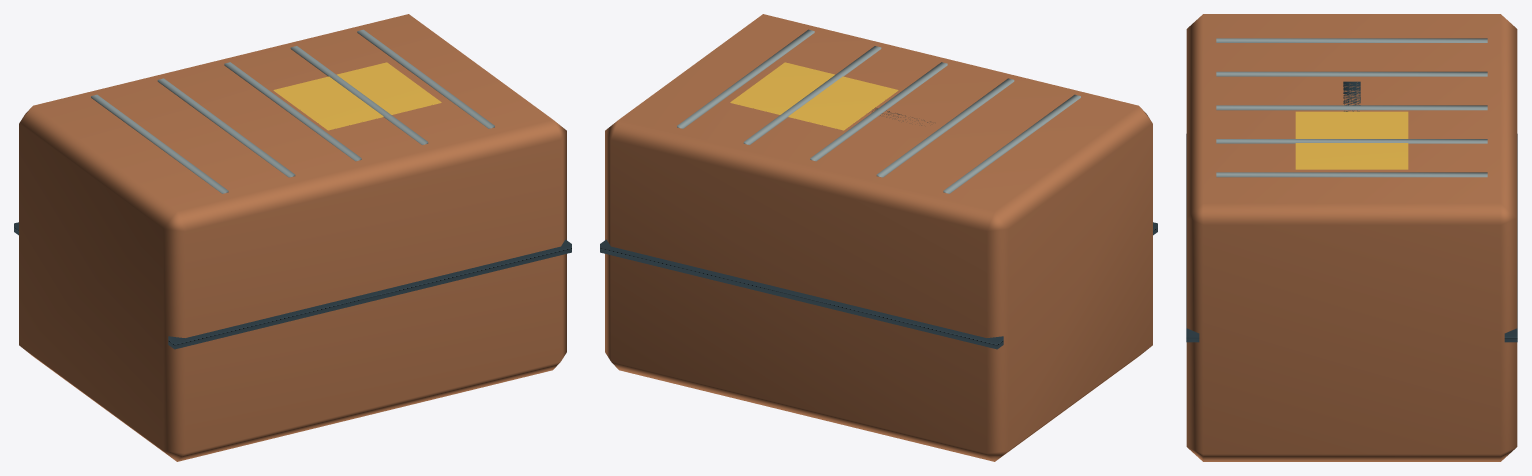
3 renders of one model, left to right at view 1: azimuth 30°, elevation 25°; view 2: azimuth 150°, elevation 25°; view 3: azimuth 270°, elevation 25°, orthographic. The views are drawn at different scales.
Visible parts, largest first — view 1: case, fragile_label, zipper_band, rib_-0.10560000000000001, rib_-0.21120000000000003, rib_0.0, rib_0.21120000000000003, rib_0.1056; view 2: case, fragile_label, zipper_band, rib_-0.10560000000000001, rib_-0.21120000000000003, rib_0.0, rib_0.21120000000000003, rib_0.1056; view 3: case, fragile_label, rib_-0.10560000000000001, rib_0.0, rib_0.21120000000000003, rib_-0.21120000000000003, rib_0.1056, zipper_band, handle.
Part boxes in pixels (left/top/right/bottom): case: left=19, top=14, right=566, bottom=461; fragile_label: left=273, top=62, right=441, bottom=130; zipper_band: left=14, top=222, right=571, bottom=349; rib_-0.10560000000000001: left=157, top=78, right=295, bottom=177; rib_-0.21120000000000003: left=91, top=94, right=228, bottom=193; rib_0.0: left=224, top=62, right=361, bottom=161; rib_0.21120000000000003: left=357, top=29, right=494, bottom=128; rib_0.1056: left=290, top=46, right=428, bottom=144; case: left=605, top=14, right=1152, bottom=461; fragile_label: left=730, top=62, right=898, bottom=130; zipper_band: left=600, top=222, right=1157, bottom=349; rib_-0.10560000000000001: left=876, top=78, right=1014, bottom=177; rib_-0.21120000000000003: left=943, top=94, right=1080, bottom=193; rib_0.0: left=810, top=62, right=947, bottom=161; rib_0.21120000000000003: left=677, top=29, right=814, bottom=128; rib_0.1056: left=743, top=46, right=881, bottom=144; case: left=1186, top=14, right=1517, bottom=461; fragile_label: left=1295, top=111, right=1408, bottom=169; rib_-0.10560000000000001: left=1216, top=71, right=1487, bottom=76; rib_0.0: left=1216, top=105, right=1487, bottom=110; rib_0.21120000000000003: left=1216, top=172, right=1487, bottom=177; rib_-0.21120000000000003: left=1216, top=38, right=1487, bottom=42; rib_0.1056: left=1216, top=139, right=1487, bottom=143; zipper_band: left=1186, top=134, right=1517, bottom=342; handle: left=1343, top=81, right=1360, bottom=111.
Bounding box in the file's own units: 0.64 × 0.441 × 0.3825.
